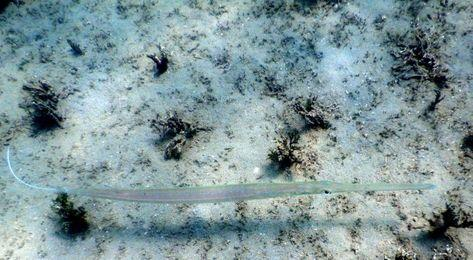Fistularia commersonii: (5, 138, 455, 228)
